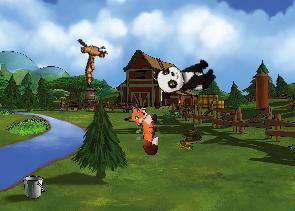eagle: (64, 29, 118, 87)
fox: (124, 103, 159, 155)
panda: (152, 54, 218, 101)
